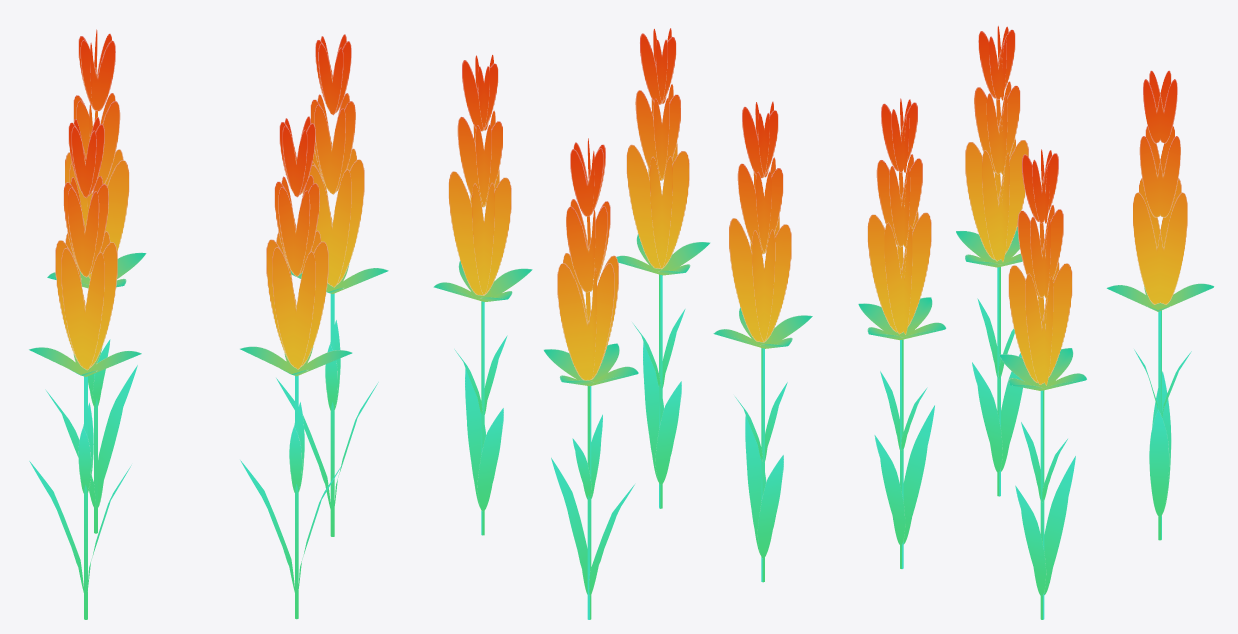
File: Flowers_n03_16.fbx
3 renders of one model, left to right at view 1: azimuth 30°, elevation 25°; view 2: azimuth 150°, elevation 25°; view 3: azimuth 270°, elevation 25°, orthographic. The views are drawn at different scales.
Parts seen in each view (by area): view 1: polySurface587; view 2: polySurface587; view 3: polySurface587.
Part boxes in pixels (x1,y1,x2,y2): polySurface587: (29, 29, 388, 619); polySurface587: (433, 28, 812, 619); polySurface587: (858, 25, 1214, 619).
Bounding box in the file's own units: 90.24 × 118 × 83.92.
1 material, 1 textured.
